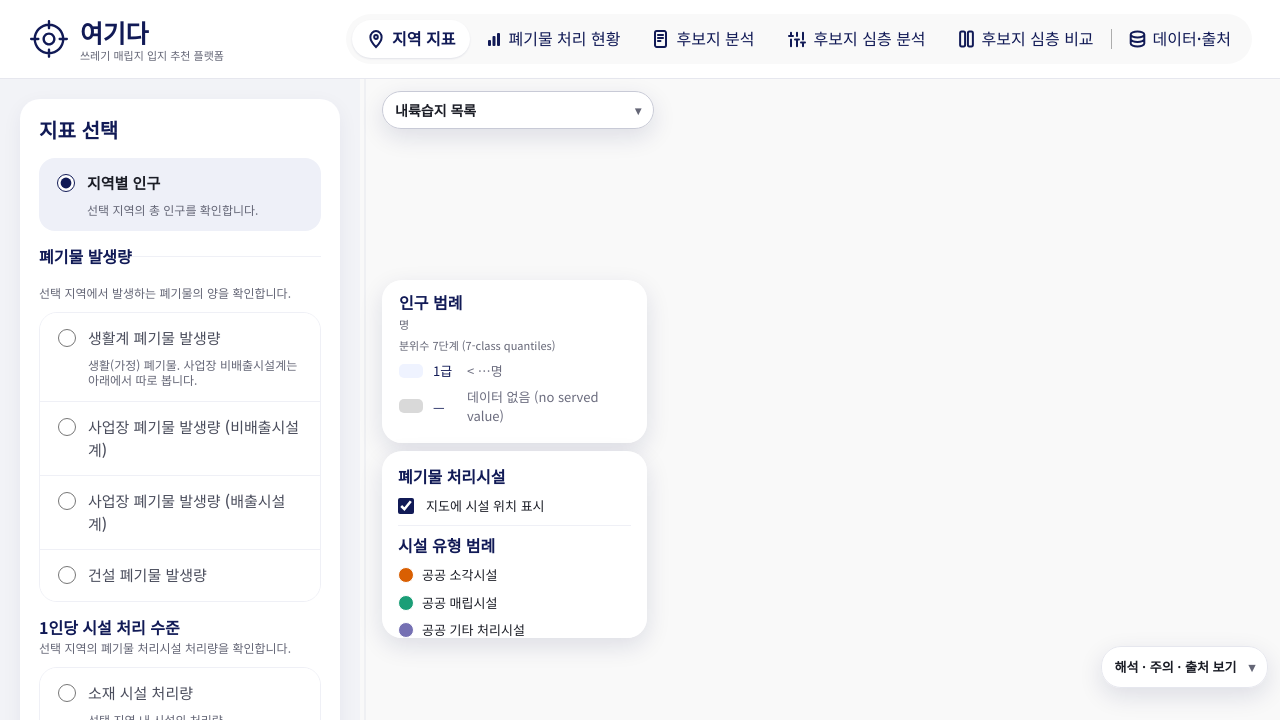
Test: opening from the navigation › carries the full source catalogue inside the dialog
Click the button with test id "mode-transparency". click: [1180, 39]
box: [1114,20,1246,58]
(page scrolled)
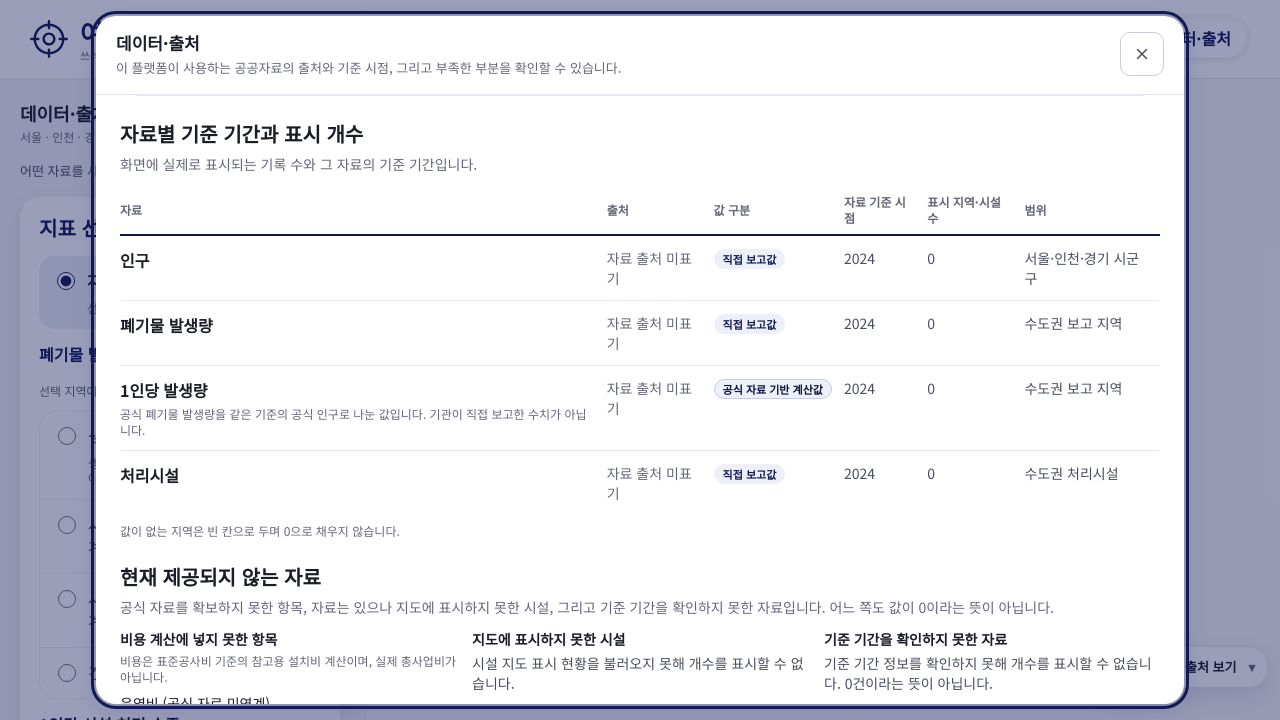
expect the dialog with test id "data-sources-dialog" is shown: met
